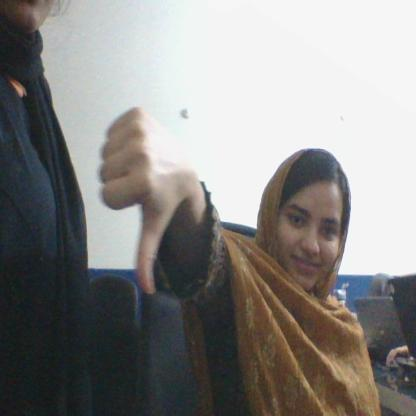thumbs-down: (94, 108, 194, 300)
